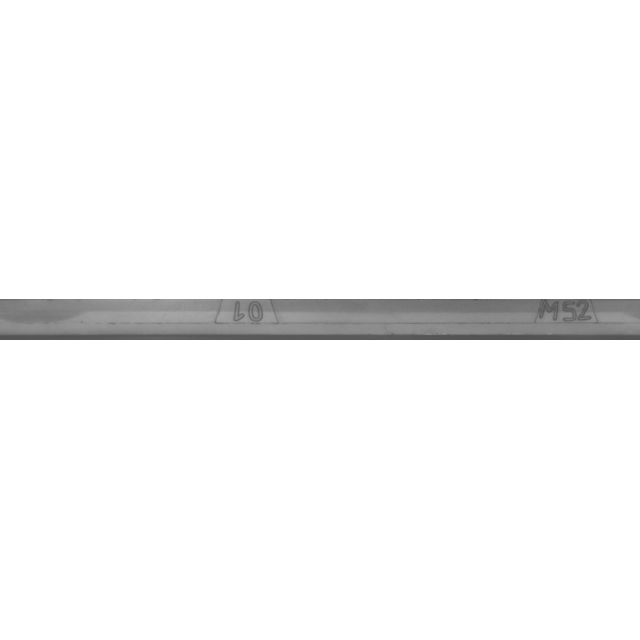mohao: (486, 270, 640, 370)
xuehao: (151, 270, 351, 370)
